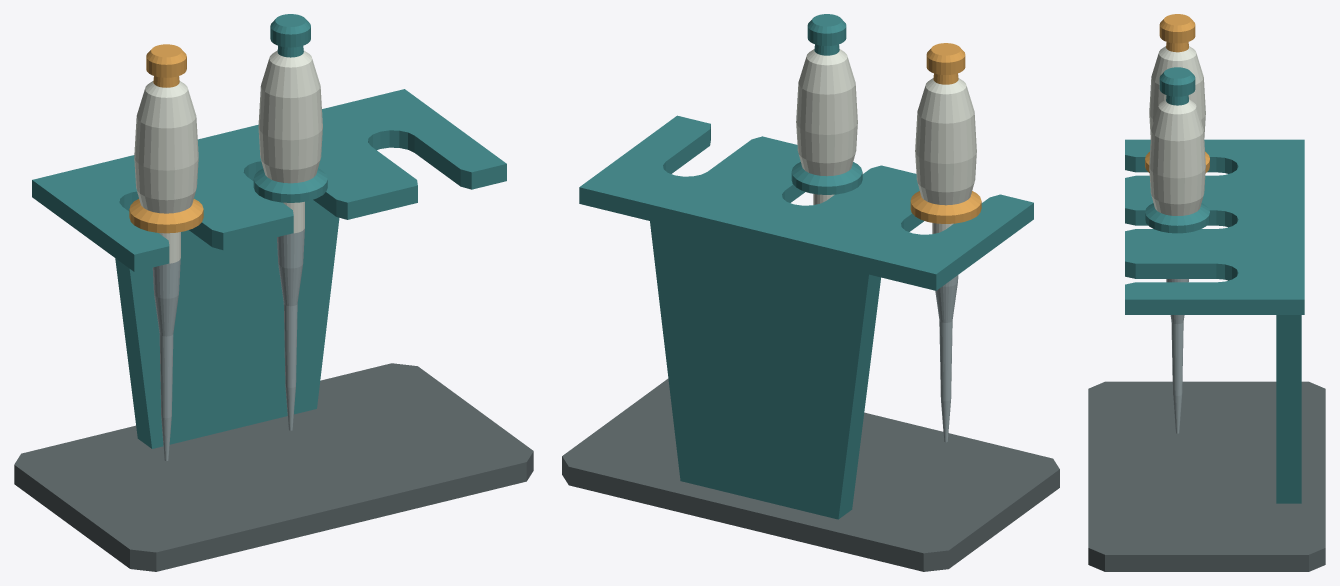
3 views of the same model, side by side, from view 1: azimuth 30°, elevation 25°; view 2: azimuth 150°, elevation 25°; view 3: azimuth 270°, elevation 25° (orthographic). The views are drawn at different scales.
Parts seen in each view (by area): view 1: Rack_WideChamferedBase, Rack_SolidRearSpine, Rack_ThreeFrontOpenForks, Pipette_1_IntegralGripShoulderStemTipButton, Pipette_2_IntegralGripShoulderStemTipButton; view 2: Rack_SolidRearSpine, Rack_WideChamferedBase, Rack_ThreeFrontOpenForks, Pipette_1_IntegralGripShoulderStemTipButton, Pipette_2_IntegralGripShoulderStemTipButton; view 3: Rack_WideChamferedBase, Rack_ThreeFrontOpenForks, Pipette_2_IntegralGripShoulderStemTipButton, Rack_SolidRearSpine, Pipette_1_IntegralGripShoulderStemTipButton.
Boxes of the visible parts, left/top/right/bottom form: Rack_WideChamferedBase: left=14, top=363, right=533, bottom=571; Rack_SolidRearSpine: left=115, top=180, right=339, bottom=448; Rack_ThreeFrontOpenForks: left=32, top=89, right=506, bottom=271; Pipette_1_IntegralGripShoulderStemTipButton: left=129, top=44, right=203, bottom=460; Pipette_2_IntegralGripShoulderStemTipButton: left=253, top=14, right=327, bottom=430; Rack_SolidRearSpine: left=650, top=221, right=880, bottom=519; Rack_WideChamferedBase: left=562, top=379, right=1059, bottom=571; Rack_ThreeFrontOpenForks: left=579, top=115, right=1033, bottom=290; Pipette_1_IntegralGripShoulderStemTipButton: left=910, top=43, right=981, bottom=442; Pipette_2_IntegralGripShoulderStemTipButton: left=791, top=14, right=862, bottom=204; Rack_WideChamferedBase: left=1088, top=381, right=1325, bottom=571; Rack_ThreeFrontOpenForks: left=1125, top=139, right=1304, bottom=314; Pipette_2_IntegralGripShoulderStemTipButton: left=1145, top=67, right=1209, bottom=433; Rack_SolidRearSpine: left=1276, top=315, right=1301, bottom=503; Pipette_1_IntegralGripShoulderStemTipButton: left=1145, top=14, right=1209, bottom=172.
Bounding box in the file's own units: 0.39 × 0.433 × 0.226.
